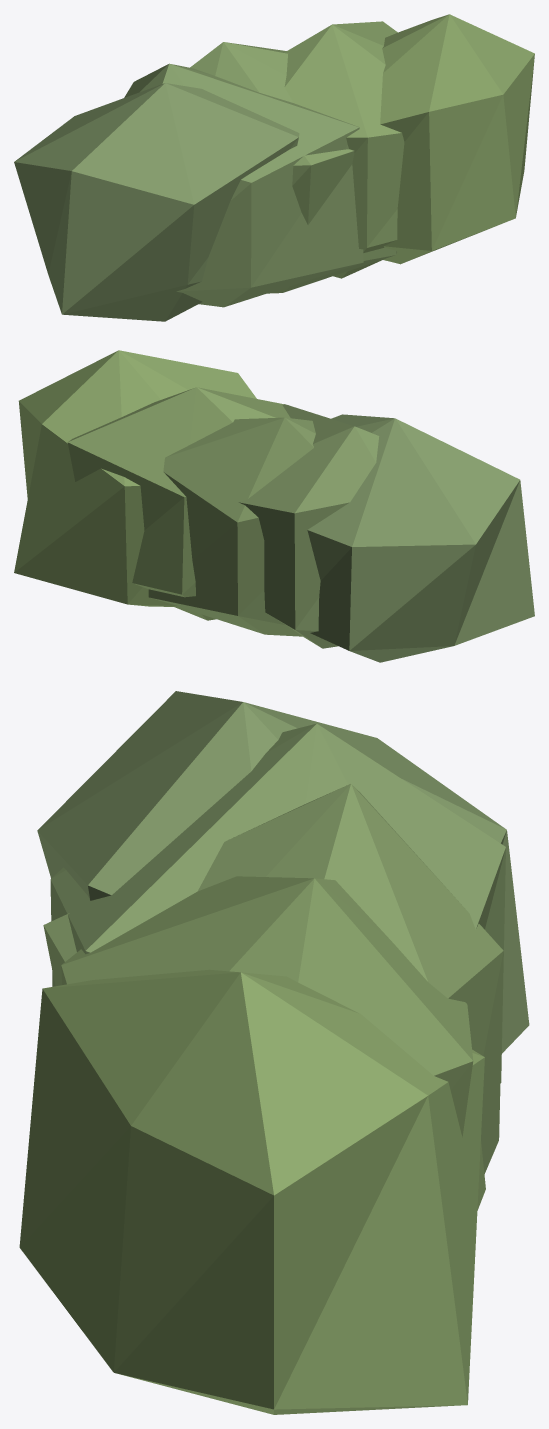
Rendered from shrub.glb.
The picture shows the model from 3 angles, top to bottom: view 1: azimuth 30°, elevation 25°; view 2: azimuth 150°, elevation 25°; view 3: azimuth 270°, elevation 25°; orthographic projection. The views are drawn at different scales.
Size of the model in its own units: 3.19 by 1.5 by 1.44.
